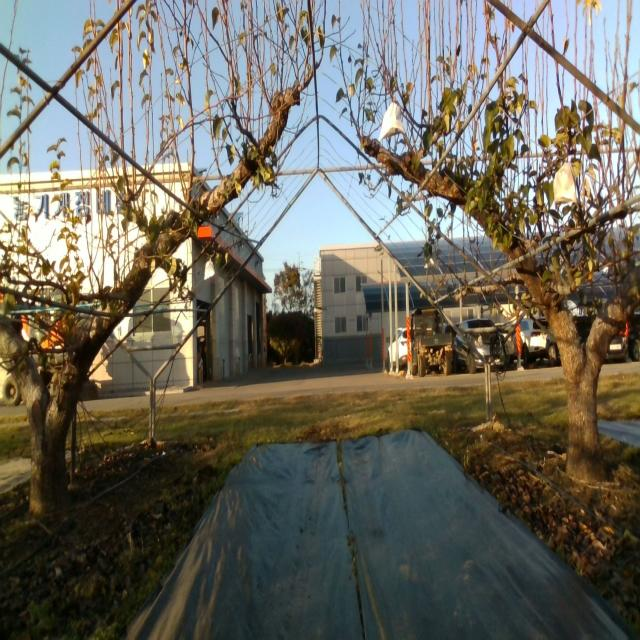pearbags: (554, 162, 580, 212), (379, 101, 405, 142), (424, 252, 438, 271), (204, 258, 215, 281)
